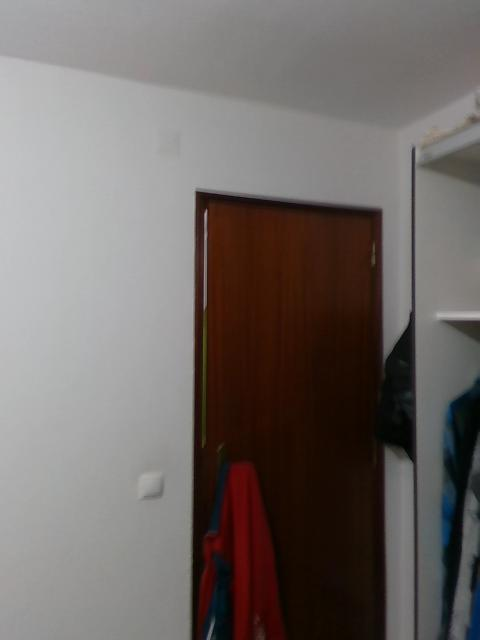door: (202, 207, 373, 640)
